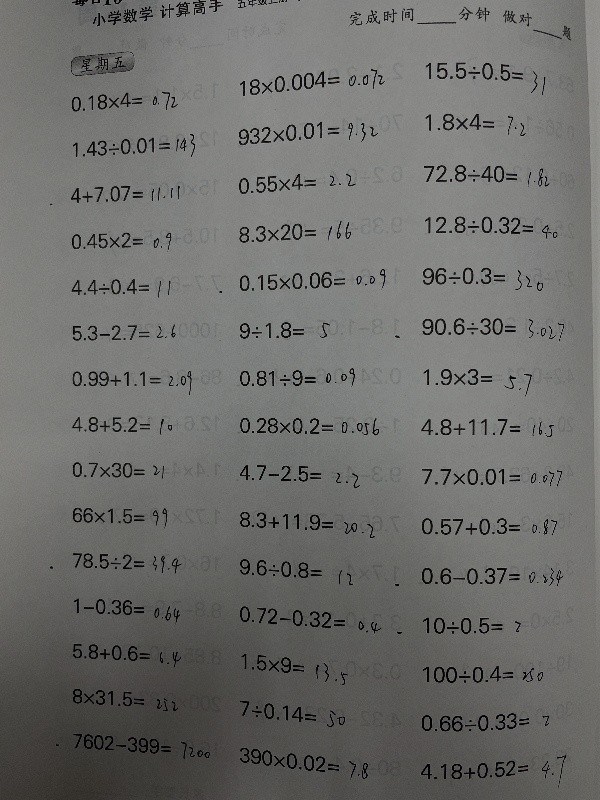equation: (232, 498, 379, 544), (237, 597, 386, 639), (414, 555, 566, 595), (236, 741, 370, 786), (418, 750, 566, 790), (70, 729, 213, 767), (420, 56, 548, 98), (416, 704, 552, 743), (234, 551, 361, 589), (241, 648, 355, 690), (236, 693, 350, 735), (419, 659, 545, 693), (233, 117, 380, 146), (235, 67, 387, 95), (417, 312, 567, 340), (234, 265, 388, 292), (68, 366, 195, 398), (67, 128, 198, 159), (419, 210, 561, 238), (419, 159, 552, 188), (417, 262, 547, 291), (232, 412, 382, 437), (233, 313, 340, 348), (417, 463, 565, 488), (416, 413, 556, 439), (417, 513, 561, 538), (68, 548, 188, 578), (67, 596, 187, 626), (64, 640, 184, 670), (65, 687, 185, 717), (418, 364, 534, 395), (231, 460, 363, 487), (419, 608, 529, 639), (234, 217, 354, 244), (235, 364, 358, 390), (67, 503, 172, 533), (233, 168, 358, 193), (420, 108, 529, 136), (66, 87, 180, 113), (65, 180, 182, 204), (67, 411, 175, 436), (67, 228, 175, 253), (66, 274, 173, 299), (67, 319, 178, 343), (67, 457, 167, 481)
